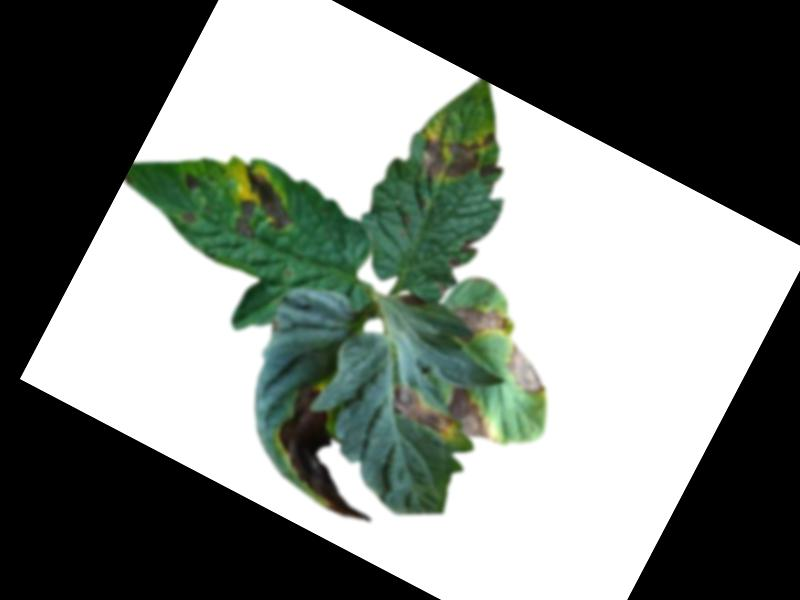Early_blight: (255, 381, 416, 531), (215, 165, 307, 255), (412, 107, 497, 198), (381, 380, 461, 442), (435, 383, 506, 448), (447, 291, 510, 347), (496, 344, 557, 400), (448, 233, 480, 274), (396, 288, 429, 317), (476, 155, 504, 185), (177, 171, 202, 195), (180, 209, 198, 226)
